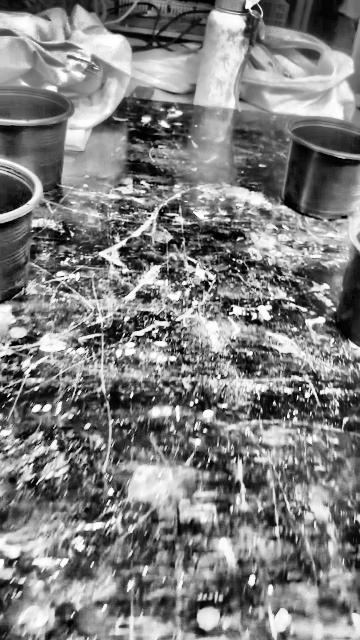pot: (0, 85, 74, 213), (284, 116, 360, 221), (0, 159, 42, 301), (337, 218, 359, 345)
